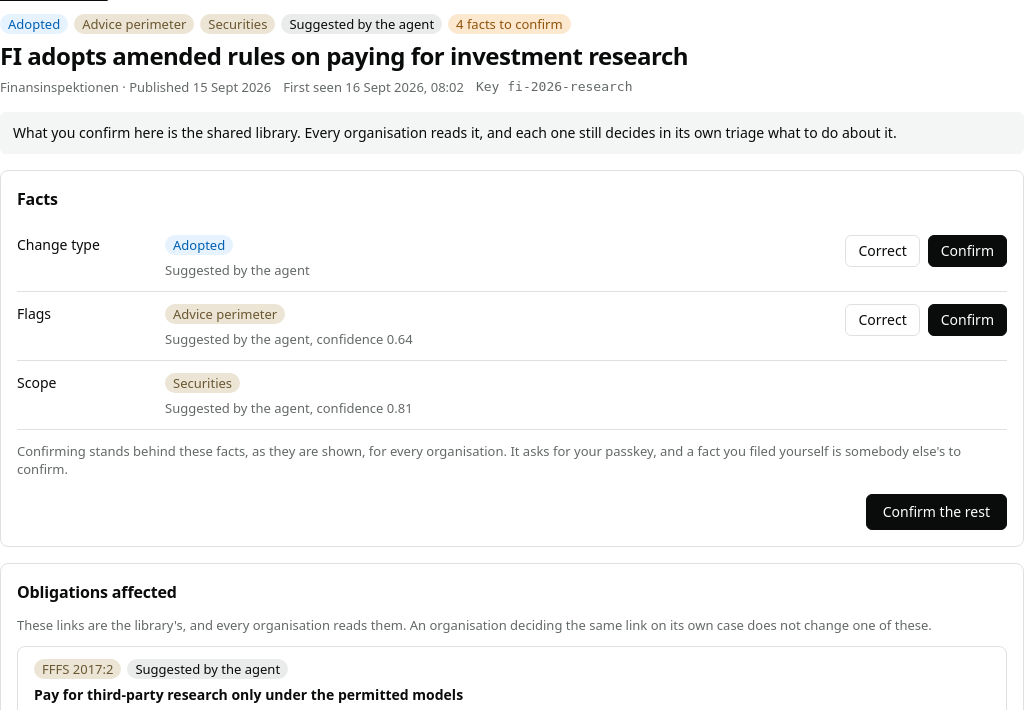
console change facts detail › corrects the change type against the real route and shows it without a reload
Expected: the heading "FI adopts amended rules on paying for investment research" is shown, [0,39,688,72]
Click the button "Correct" in the row of "Change type" at x=883, y=251, box [845,235,920,267]
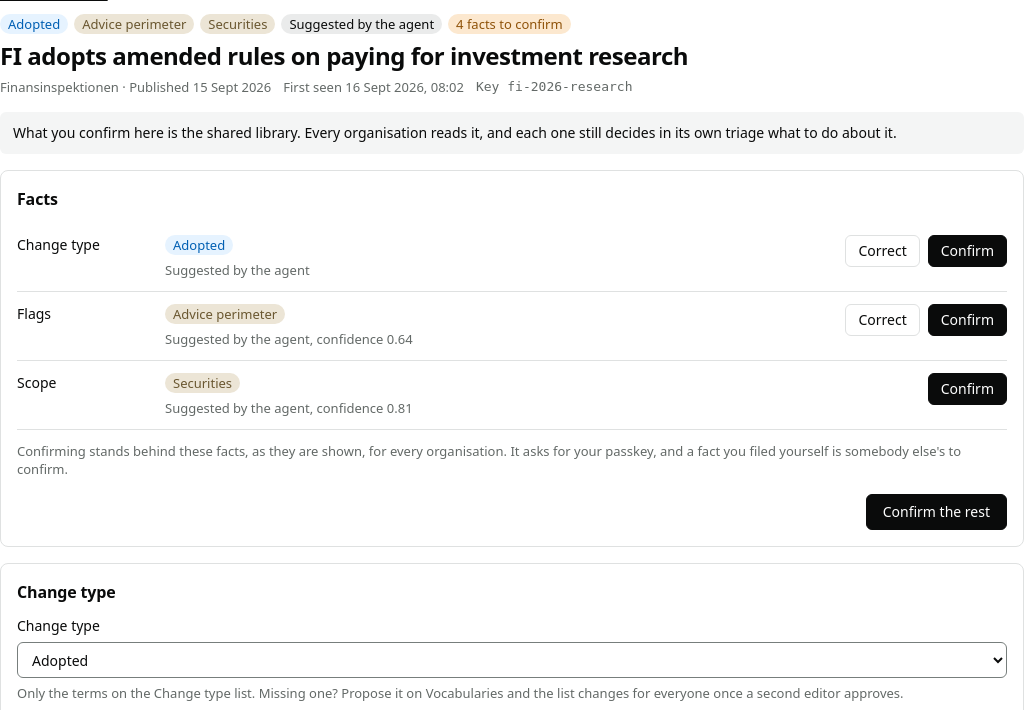
Select "Consultation" in the dropdown labelled "Change type" at x=512, y=660, box [17,642,1007,678]
(page scrolled)
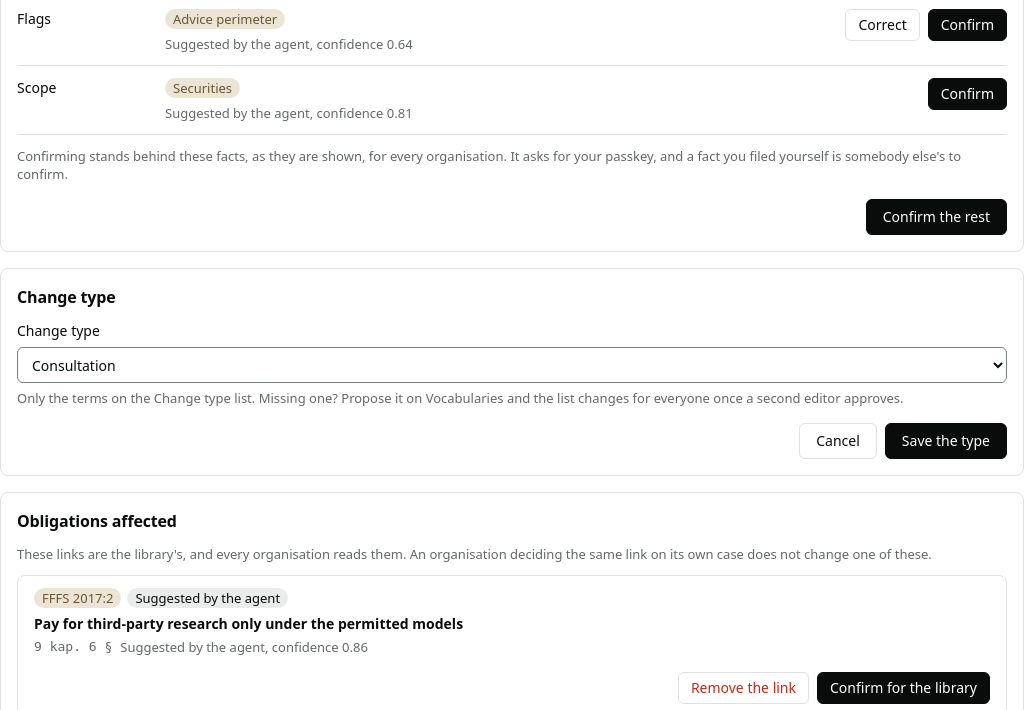
Click the button "Save the type" at x=946, y=441, box [885,423,1007,459]
(page scrolled)
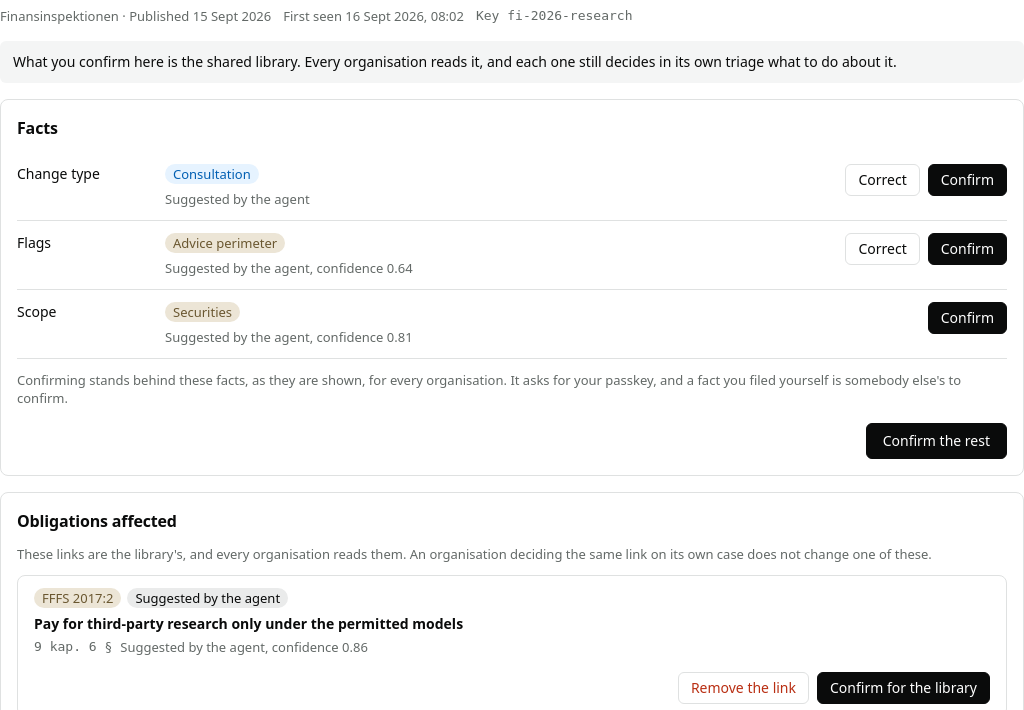
Expected: the text "Consultation" is shown, [165,164,259,184]
